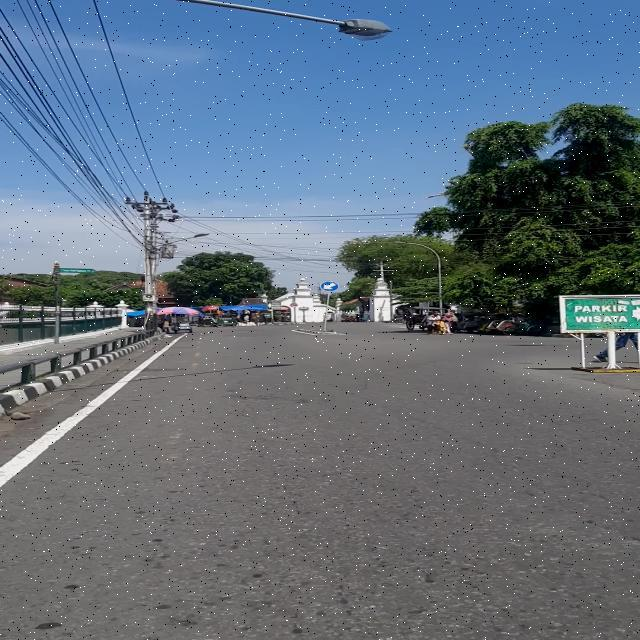Lajur Kiri: (320, 280, 339, 292)
